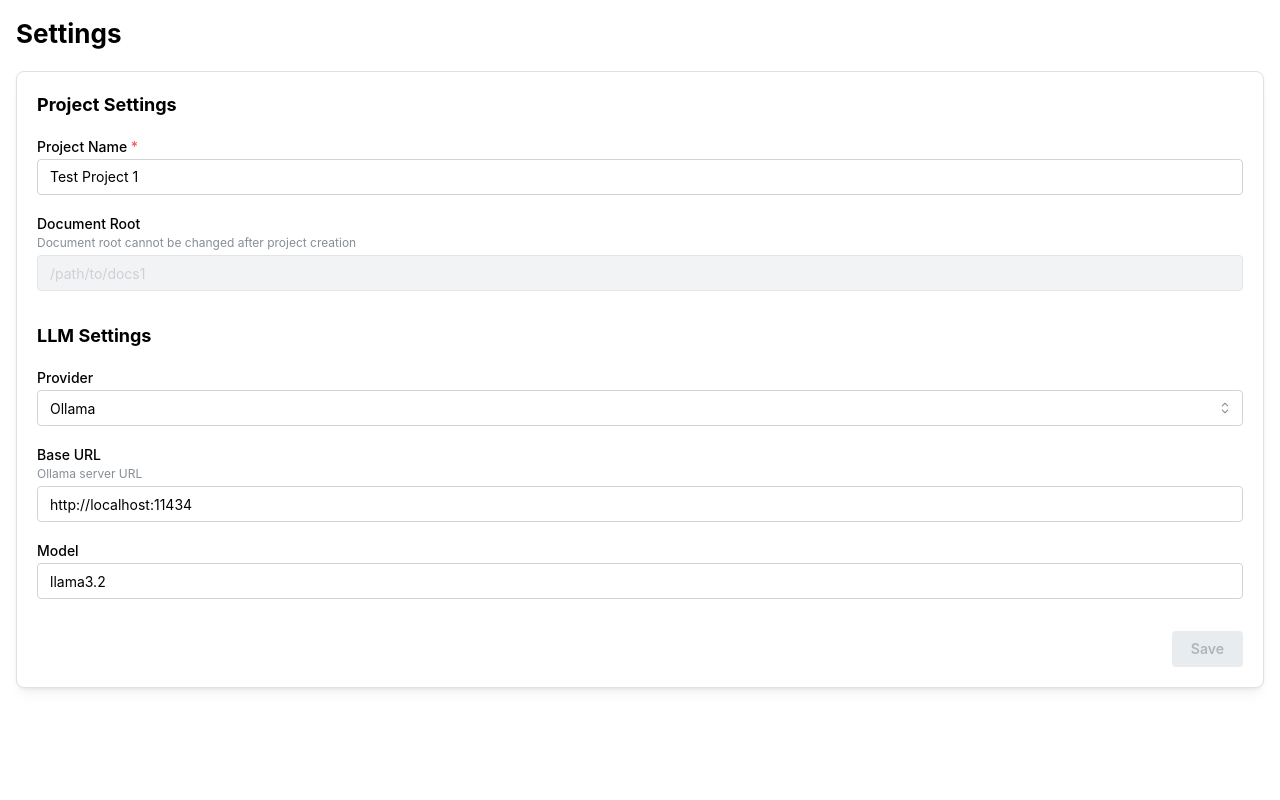
Test: SettingsPage › shows error toast for duplicate name
Change name to duplicate
Replace the text in the field labelled "Project Name *" with "Test Project 2": coordinates (640, 177) top-left (37, 159), bottom-right (1243, 195)
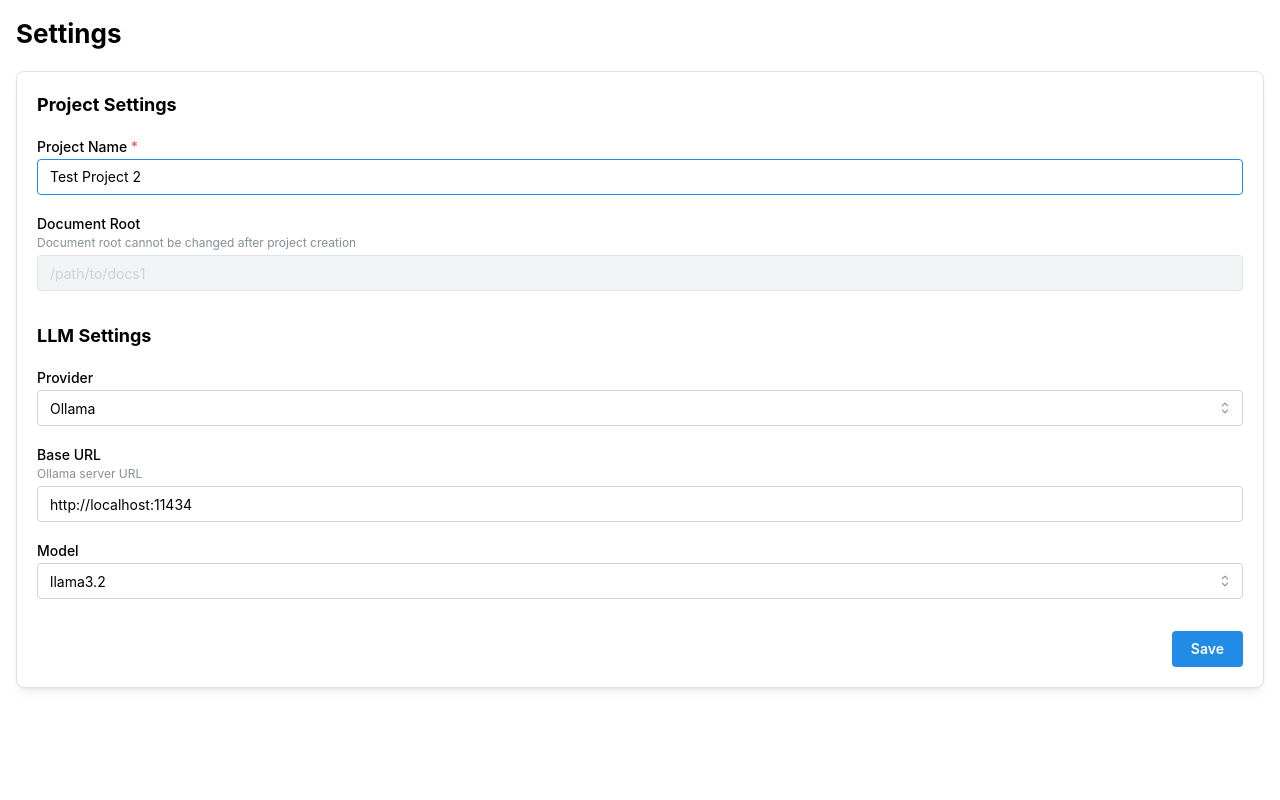
Click save button
Click the button "Save": coordinates (1207, 649) top-left (1172, 631), bottom-right (1243, 667)
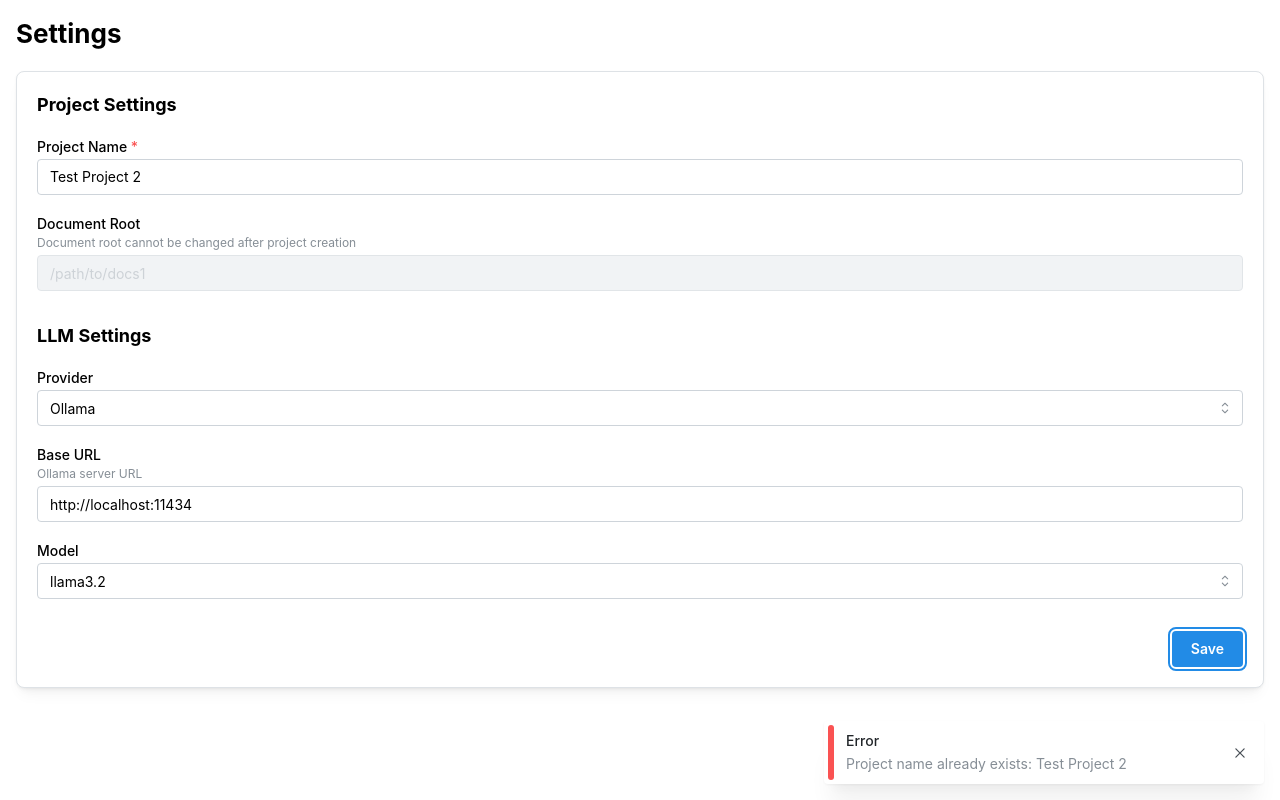
expect the text "Project name already exists: Test Project 2" is shown: met, box top-left (846, 755), bottom-right (1127, 772)
